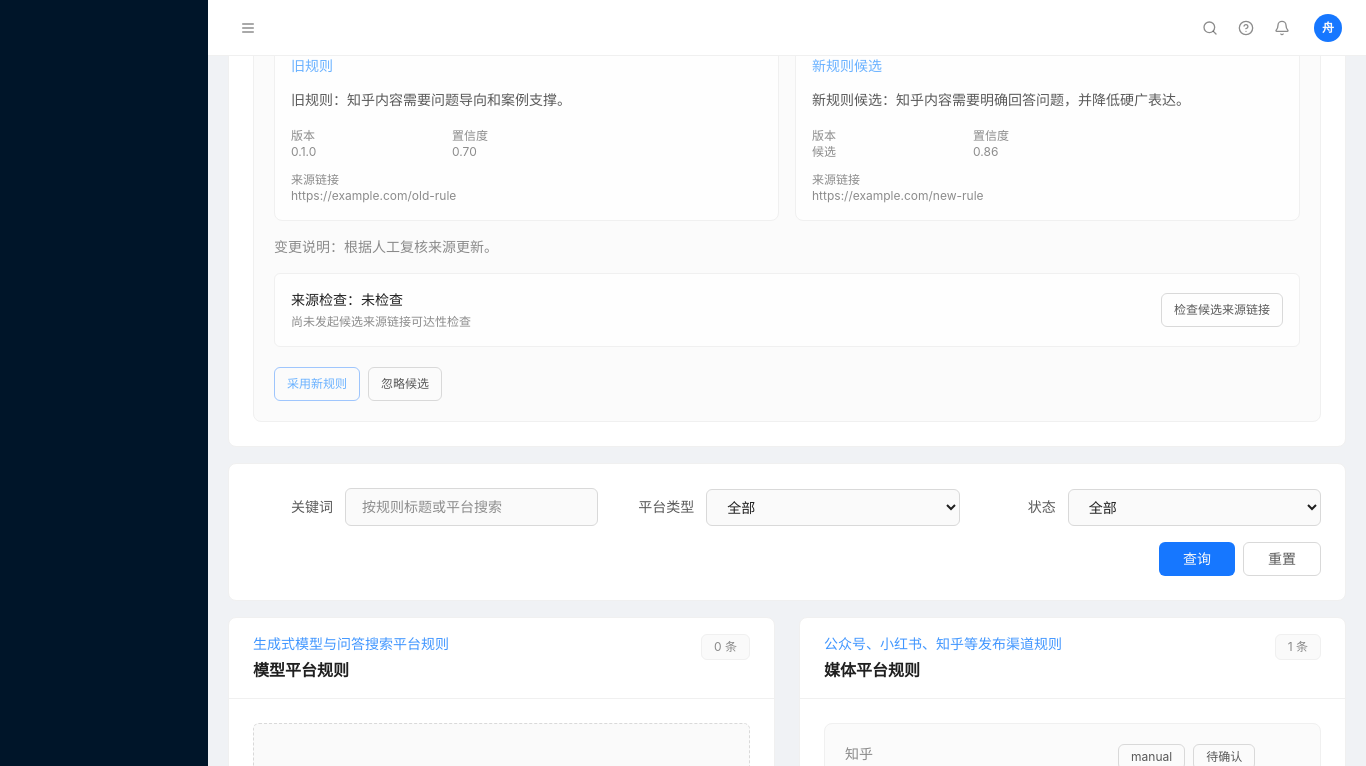
Scenario: P2.1 rule source review queue › ignores source review proposals without changing the rule summary
(page scrolled)
What coordinates should you click on to do the following:
click the button with aria-label "忽略候选 知乎 GEO 来源规则"
I would click on:
 (405, 384)
Its box is [368,367,442,401].
(page scrolled)
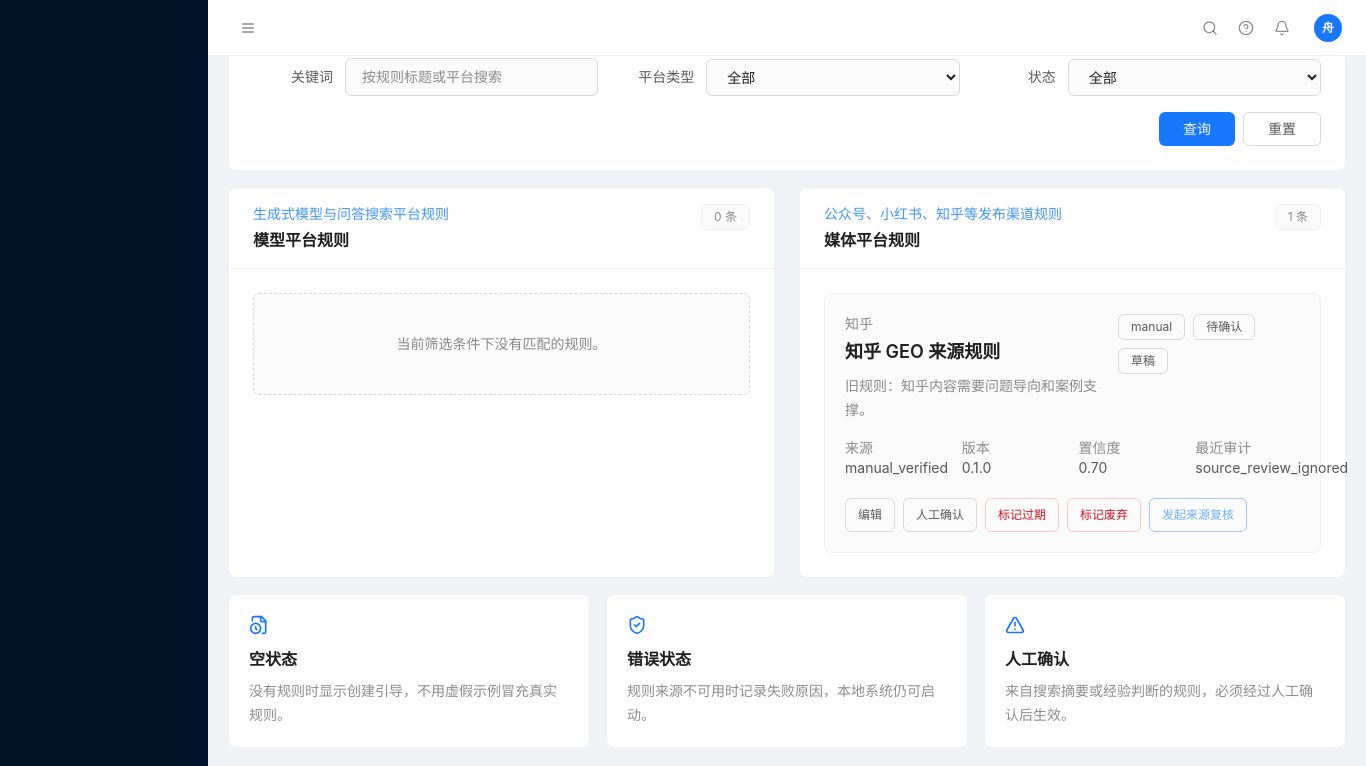
Now the text "source_review_ignored" is shown, box [1195,458,1300,478]
